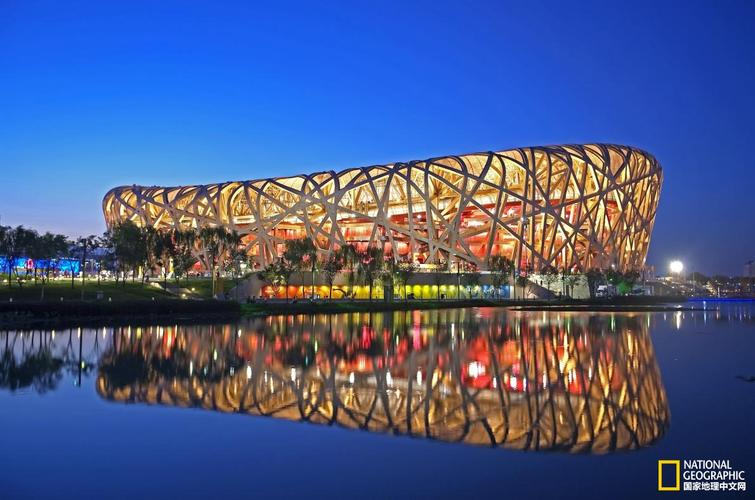buildings: (100, 144, 672, 321)
sky_cloud: (6, 12, 745, 160)
